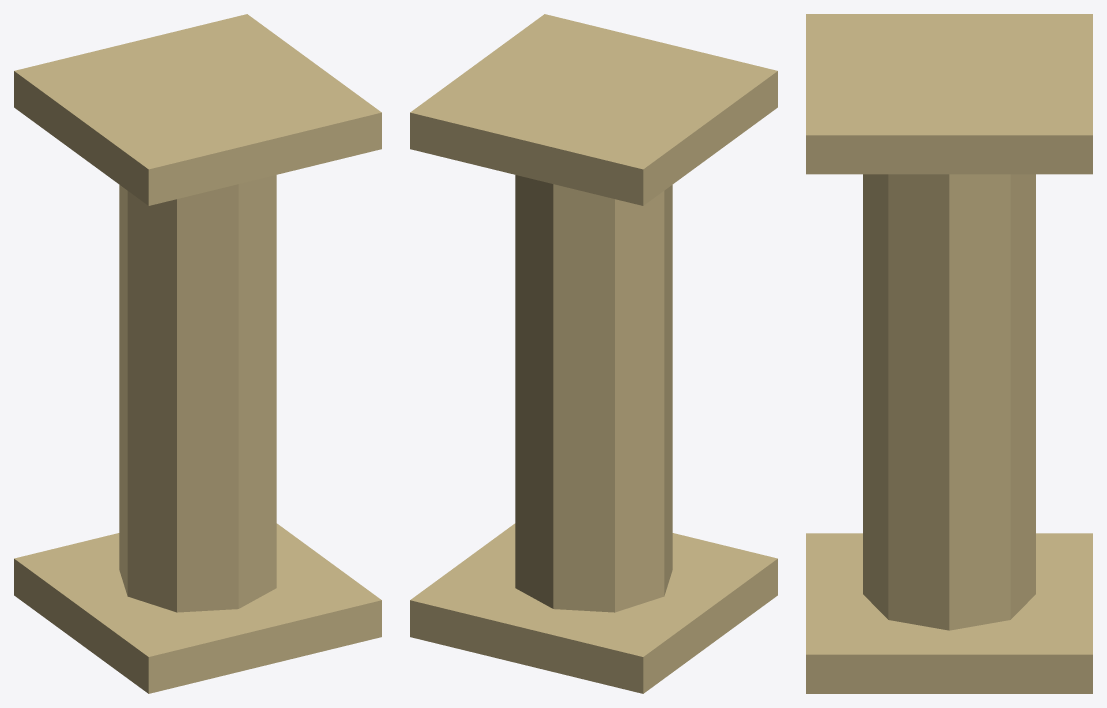
The model's file is Pillar.fbx.
The picture shows the model from 3 angles, left to right: view 1: azimuth 30°, elevation 25°; view 2: azimuth 150°, elevation 25°; view 3: azimuth 270°, elevation 25°; orthographic projection. The views are drawn at different scales.
Visible parts, largest first — view 1: Pillar; view 2: Pillar; view 3: Pillar.
Part boxes in pixels (<box>): Pillar: <box>14,14,381,693</box>; Pillar: <box>410,14,777,693</box>; Pillar: <box>806,14,1092,693</box>.
Bounding box in the file's own units: 100 × 215 × 100.
